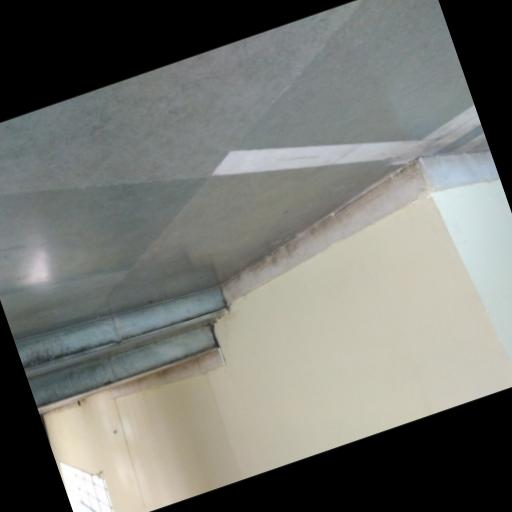stairs: (15, 287, 225, 411)
